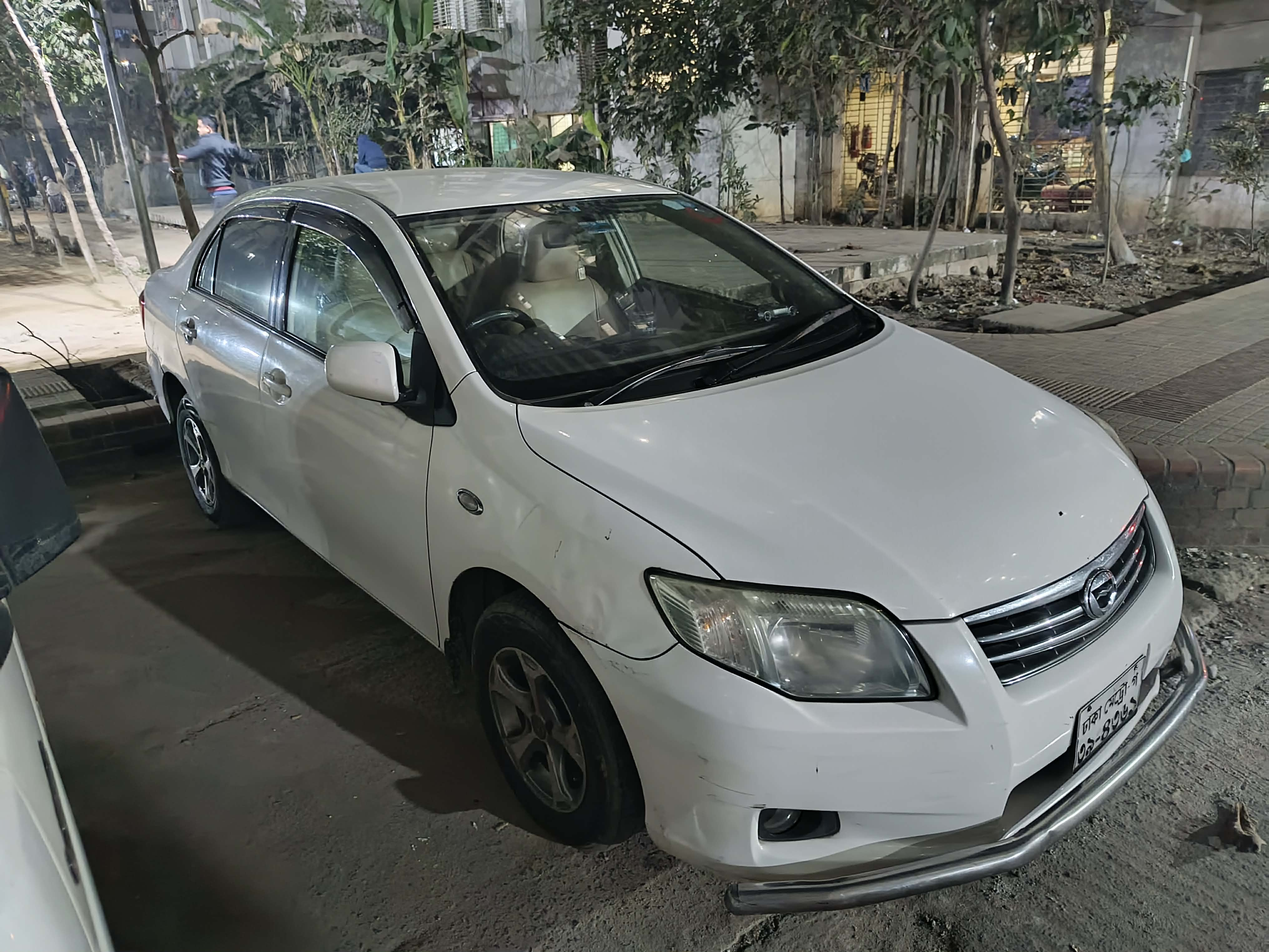private car: (103, 154, 1225, 919)
